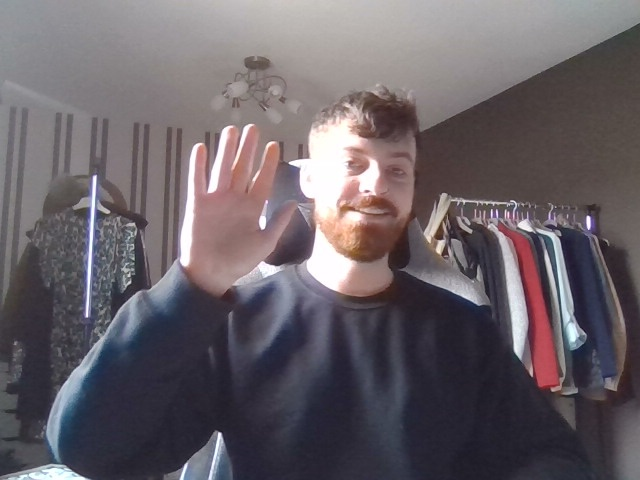Hello: (161, 112, 299, 295)
